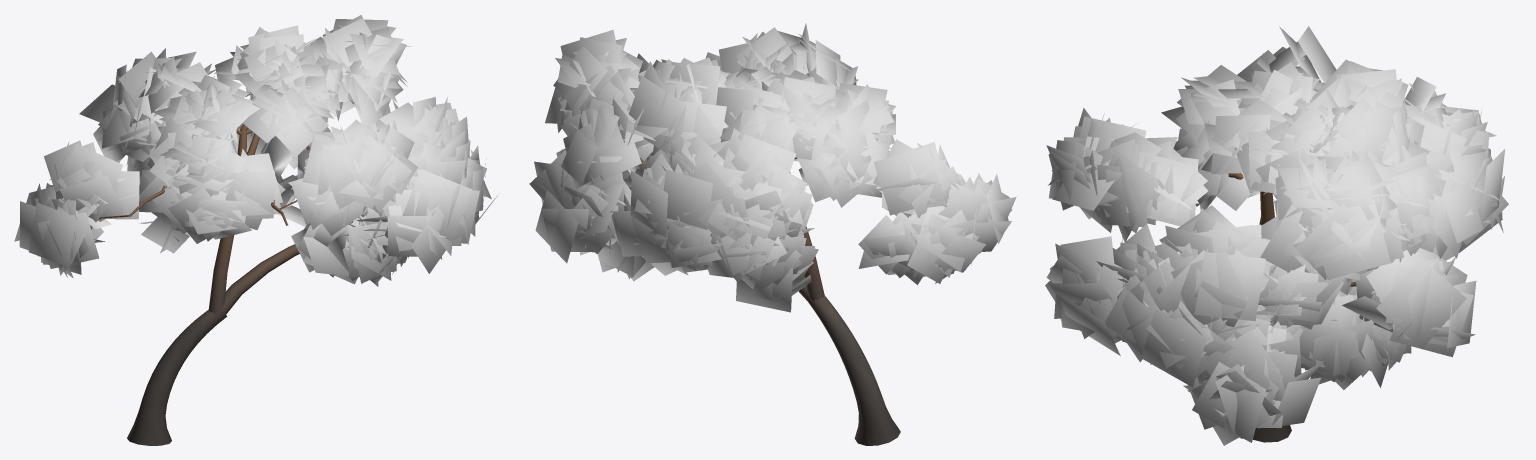
3 renders of one model, left to right at view 1: azimuth 30°, elevation 25°; view 2: azimuth 150°, elevation 25°; view 3: azimuth 270°, elevation 25°, orthographic. The views are drawn at different scales.
Parts seen in each view (by area): view 1: crown, trunk; view 2: crown, trunk; view 3: crown, trunk.
Boxes of the visible parts, x1,y1,x2,y2 form: crown: (14,15,499,286); trunk: (99,124,310,445); crown: (529,23,1016,312); trunk: (640,157,900,445); crown: (1045,26,1508,445); trunk: (1228,173,1356,442).
Size of the model in its own units: 13.16 by 9.89 by 10.02.
